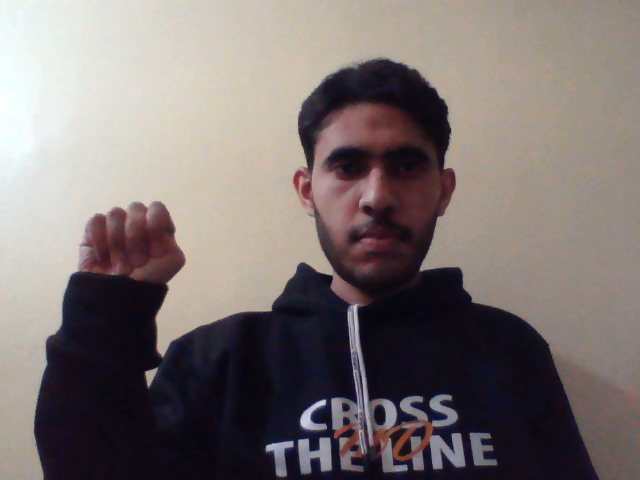M: (75, 193, 198, 305)
